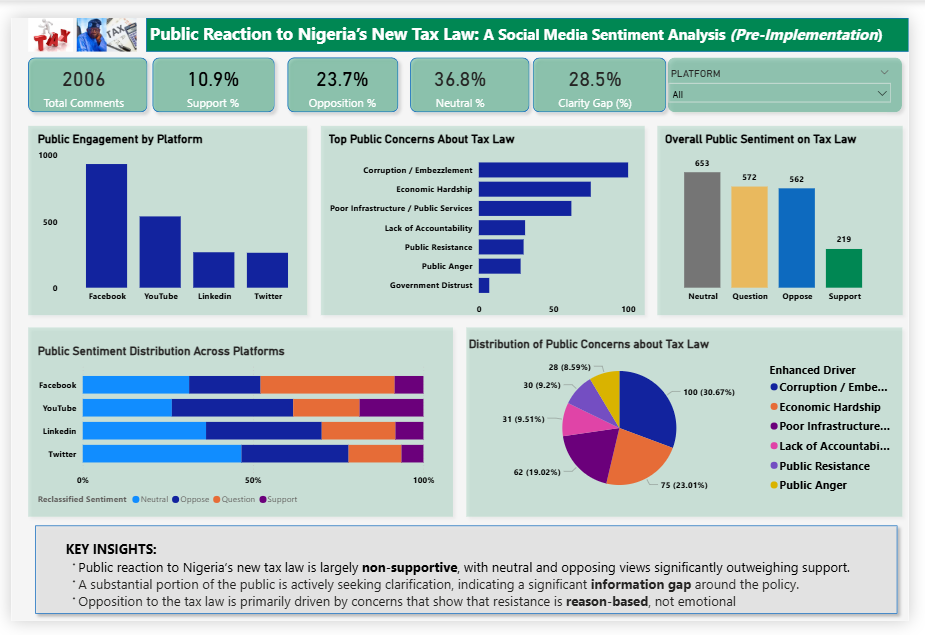

The page's visual inventory and layout, read from the dashboard file:
{"tool":"powerbi","page":{"name":"Page 2","canvas":[1280,860],"ordinal":1},"visuals":[{"type":"shape","box":[432,144,480,288],"z":0},{"type":"shape","box":[928,48,352,96],"z":1000},{"type":"shape","box":[16,432,624,288],"z":2000},{"type":"shape","box":[192,0,1088,48],"z":3000},{"type":"textbox","box":[192,0,1056,48],"z":4000},{"type":"shape","box":[16,144,416,288],"z":5000},{"type":"clusteredColumnChart","title":"Public Engagement by Platform","fields":{"Category":["Tax_data.PLATFORM"],"Y":["Measures Table.Total Comments"]},"box":[32,162,400,252],"z":6000},{"type":"shape","box":[912,144,368,288],"z":7000},{"type":"shape","box":[16,48,188,96],"z":8000,"group":"g2"},{"type":"clusteredColumnChart","title":"Overall Public Sentiment on Tax Law","fields":{"Y":["Measures Table.Total Comments"],"Category":["Tax_data.Reclassified Sentiment"]},"box":[928,162,320,252],"z":8000},{"type":"hundredPercentStackedBarChart","title":"Public Sentiment Distribution Across Platforms","fields":{"Category":["Tax_data.PLATFORM"],"Y":["Measures Table.Total Comments"],"Series":["Tax_data.Reclassified Sentiment"]},"box":[32,464,576,240],"z":9000},{"type":"group","id":"g1","title":"Group 1","box":[640,432,640,288],"z":10000},{"type":"slicer","fields":{"Values":["Tax_data.PLATFORM"]},"box":[927.3,64,337.3,80],"z":11000},{"type":"shape","box":[192,48,192,96],"z":12000},{"type":"shape","box":[384,48,176,96],"z":13000},{"type":"shape","box":[640,432,640,288],"z":13000,"group":"g1"},{"type":"shape","box":[560,48,188,96],"z":14000},{"type":"shape","box":[736,48,208,96],"z":15000},{"type":"clusteredBarChart","title":"Top Public Concerns About Tax Law","fields":{"Y":["Measures Table.Total Comments"],"Category":["Tax_data.Enhanced Driver"]},"box":[448,162,448,270],"z":16000},{"type":"pieChart","title":"Distribution of Public Concerns about Tax Law","fields":{"Category":["Tax_data.Enhanced Driver"],"Y":["Measures Table.Total Comments"]},"box":[648,456,624,240],"z":17000},{"type":"group","id":"g2","title":"Group 3","box":[16,48,188,96],"z":18000},{"type":"card","fields":{"Values":["Measures Table.% Support"]},"box":[208,48,160,96],"z":19000},{"type":"card","fields":{"Values":["Measures Table.Total Comments"]},"box":[16,48,176,96],"z":19008,"group":"g2"},{"type":"card","fields":{"Values":["Measures Table.% Oppose"]},"box":[400,48,144,96],"z":20000},{"type":"card","fields":{"Values":["Measures Table.% Neutral("]},"box":[560,48,160,96],"z":21000},{"type":"card","fields":{"Values":["Measures Table.% Question"]},"box":[752,48,160,96],"z":22000},{"type":"image","box":[80,0,112,48],"z":23000},{"type":"image","box":[0,0,112,48],"z":24000},{"type":"shape","box":[24,716,1248,144],"z":24001},{"type":"textbox","box":[72,740,1152,120],"z":24002}]}

Visuals, with their boxes in screenshot pixels (x1, y1, x2, y2), scaled from the page's 1280x860 canvas onto the 925x635 screenshot:
shape: {"x1": 312, "y1": 106, "x2": 659, "y2": 319}
shape: {"x1": 671, "y1": 35, "x2": 924, "y2": 106}
shape: {"x1": 12, "y1": 319, "x2": 462, "y2": 532}
shape: {"x1": 139, "y1": 0, "x2": 924, "y2": 35}
textbox: {"x1": 139, "y1": 0, "x2": 902, "y2": 35}
shape: {"x1": 12, "y1": 106, "x2": 312, "y2": 319}
"Public Engagement by Platform" clusteredColumnChart: {"x1": 23, "y1": 120, "x2": 312, "y2": 306}
shape: {"x1": 659, "y1": 106, "x2": 924, "y2": 319}
shape: {"x1": 12, "y1": 35, "x2": 147, "y2": 106}
"Overall Public Sentiment on Tax Law" clusteredColumnChart: {"x1": 671, "y1": 120, "x2": 902, "y2": 306}
"Public Sentiment Distribution Across Platforms" hundredPercentStackedBarChart: {"x1": 23, "y1": 343, "x2": 439, "y2": 520}
"Group 1" group: {"x1": 462, "y1": 319, "x2": 924, "y2": 532}
slicer - Tax_data.PLATFORM: {"x1": 670, "y1": 47, "x2": 914, "y2": 106}
shape: {"x1": 139, "y1": 35, "x2": 278, "y2": 106}
shape: {"x1": 278, "y1": 35, "x2": 405, "y2": 106}
shape: {"x1": 462, "y1": 319, "x2": 924, "y2": 532}
shape: {"x1": 405, "y1": 35, "x2": 541, "y2": 106}
shape: {"x1": 532, "y1": 35, "x2": 682, "y2": 106}
"Top Public Concerns About Tax Law" clusteredBarChart: {"x1": 324, "y1": 120, "x2": 648, "y2": 319}
"Distribution of Public Concerns about Tax Law" pieChart: {"x1": 468, "y1": 337, "x2": 919, "y2": 514}
"Group 3" group: {"x1": 12, "y1": 35, "x2": 147, "y2": 106}
card - Measures Table.% Support: {"x1": 150, "y1": 35, "x2": 266, "y2": 106}
card - Measures Table.Total Comments: {"x1": 12, "y1": 35, "x2": 139, "y2": 106}
card - Measures Table.% Oppose: {"x1": 289, "y1": 35, "x2": 393, "y2": 106}
card - Measures Table.% Neutral(: {"x1": 405, "y1": 35, "x2": 520, "y2": 106}
card - Measures Table.% Question: {"x1": 543, "y1": 35, "x2": 659, "y2": 106}
image: {"x1": 58, "y1": 0, "x2": 139, "y2": 35}
image: {"x1": 0, "y1": 0, "x2": 81, "y2": 35}
shape: {"x1": 17, "y1": 529, "x2": 919, "y2": 634}
textbox: {"x1": 52, "y1": 546, "x2": 885, "y2": 634}
